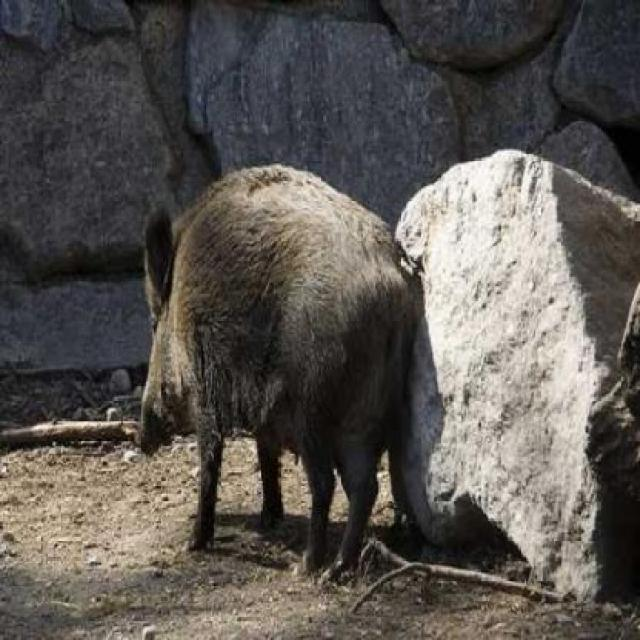pig: (65, 133, 438, 522)
